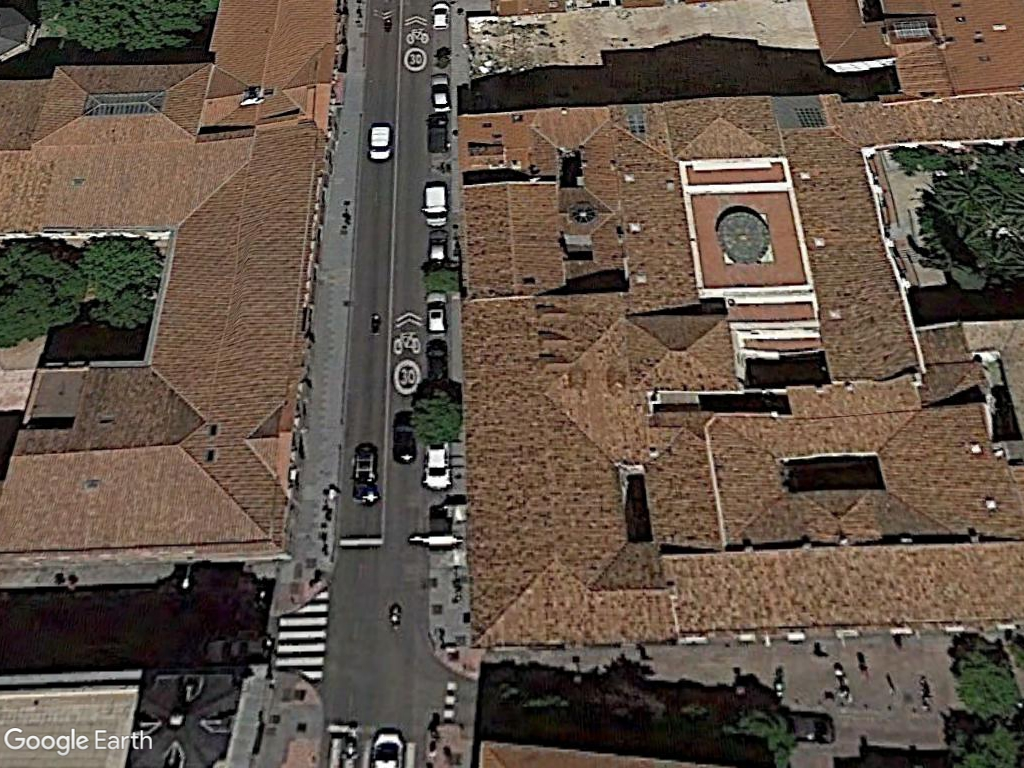car: (421, 289, 450, 338), (426, 70, 454, 115), (427, 0, 454, 33)
van: (366, 119, 396, 165), (421, 182, 450, 229)
